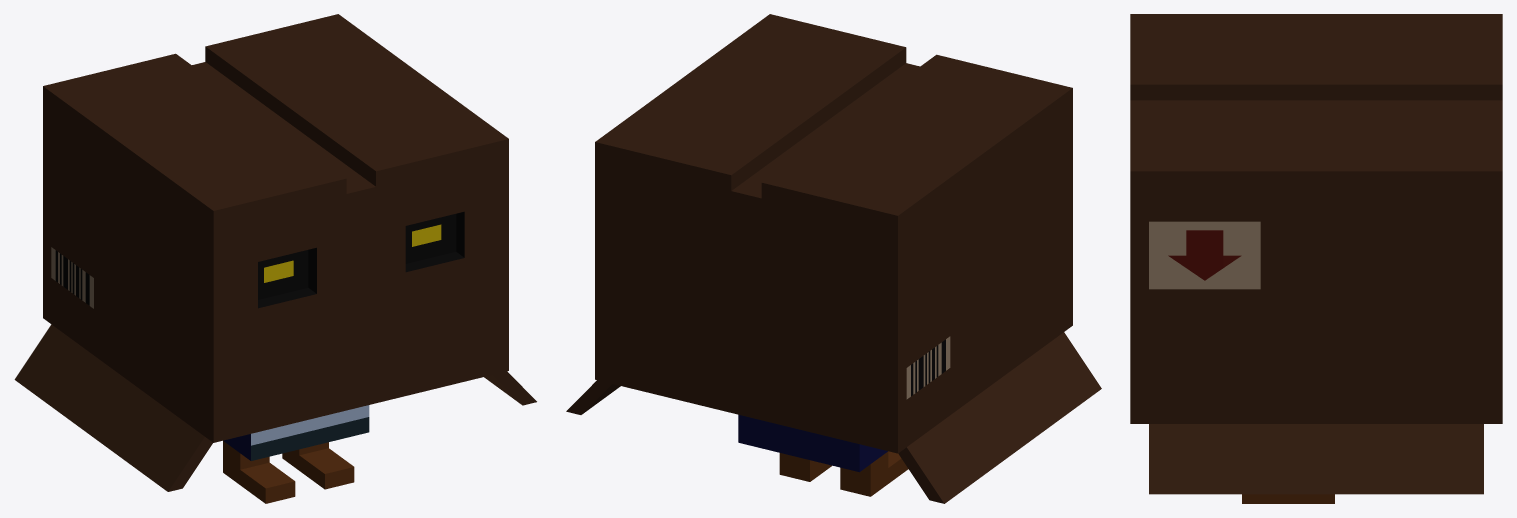
File: magpieDisguise_walk.glb
3 views of the same model, side by side, from view 1: azimuth 30°, elevation 25°; view 2: azimuth 150°, elevation 25°; view 3: azimuth 270°, elevation 25° (orthographic). The views are drawn at different scales.
Parts seen in each view (by area): view 1: magpieDisguiseWalk_body_MSH, magpieDisguiseWalk_R_leg_MSH, magpieDisguiseWalk_L_leg_MSH; view 2: magpieDisguiseWalk_body_MSH, magpieDisguiseWalk_R_leg_MSH, magpieDisguiseWalk_L_leg_MSH; view 3: magpieDisguiseWalk_body_MSH, magpieDisguiseWalk_L_leg_MSH.
Part boxes in pixels (box(x1,y1,x2,y2)): magpieDisguiseWalk_body_MSH: box(14, 14, 536, 491); magpieDisguiseWalk_R_leg_MSH: box(223, 441, 295, 503); magpieDisguiseWalk_L_leg_MSH: box(282, 442, 354, 489); magpieDisguiseWalk_body_MSH: box(566, 14, 1101, 503); magpieDisguiseWalk_R_leg_MSH: box(840, 451, 908, 496); magpieDisguiseWalk_L_leg_MSH: box(779, 453, 831, 481); magpieDisguiseWalk_body_MSH: box(1130, 14, 1502, 494); magpieDisguiseWalk_L_leg_MSH: box(1242, 494, 1334, 503).
Size of the model in its own units: 1.04 by 0.9583 by 0.8333.
